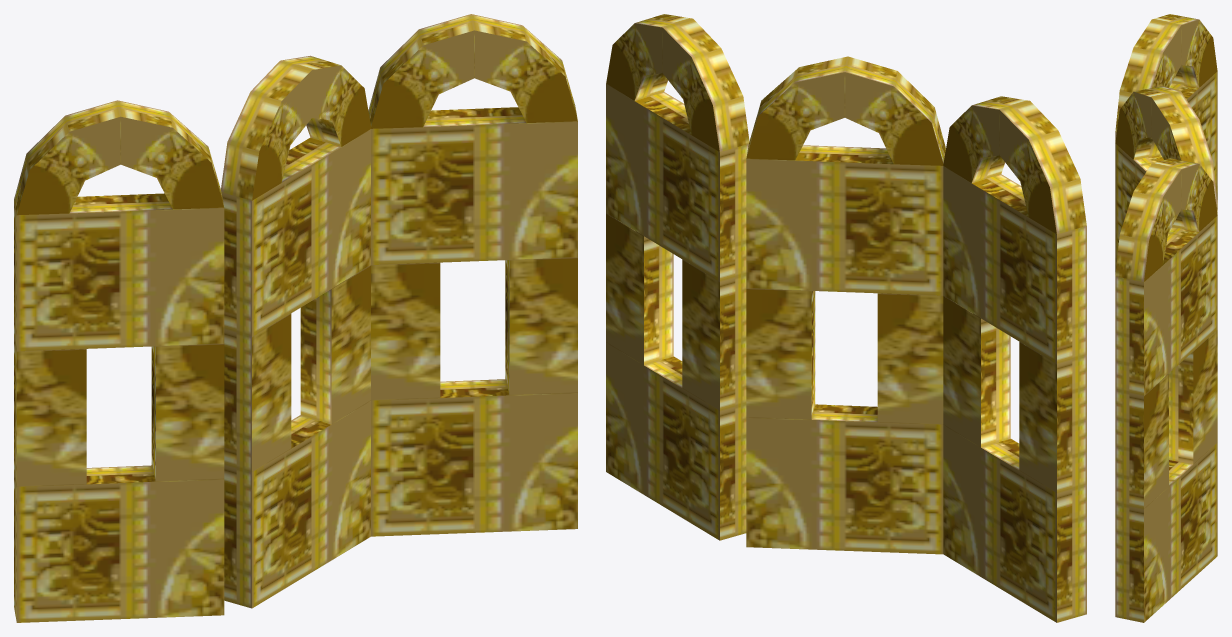
Rendered from int_gld_screen.dae.
The picture shows the model from 3 angles, left to right: view 1: azimuth 30°, elevation 25°; view 2: azimuth 150°, elevation 25°; view 3: azimuth 270°, elevation 25°; orthographic projection. The views are drawn at different scales.
Parts seen in each view (by area): view 1: int_gld_screen; view 2: int_gld_screen; view 3: int_gld_screen.
Part boxes in pixels (x1,y1,x2,y2): int_gld_screen: (14,14,577,622); int_gld_screen: (606,14,1086,622); int_gld_screen: (1115,14,1217,622).
Bounding box in the file's own units: 59.2 × 53.5 × 11.8.
1 material, 1 textured.
